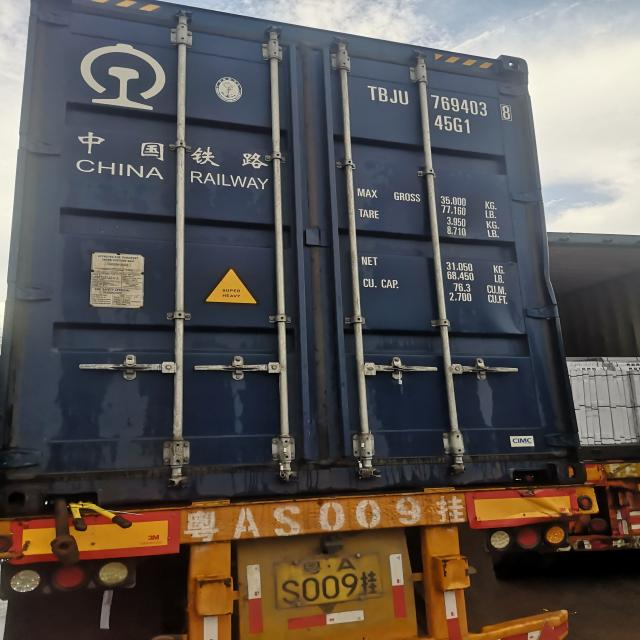seal: (396, 364, 404, 385)
